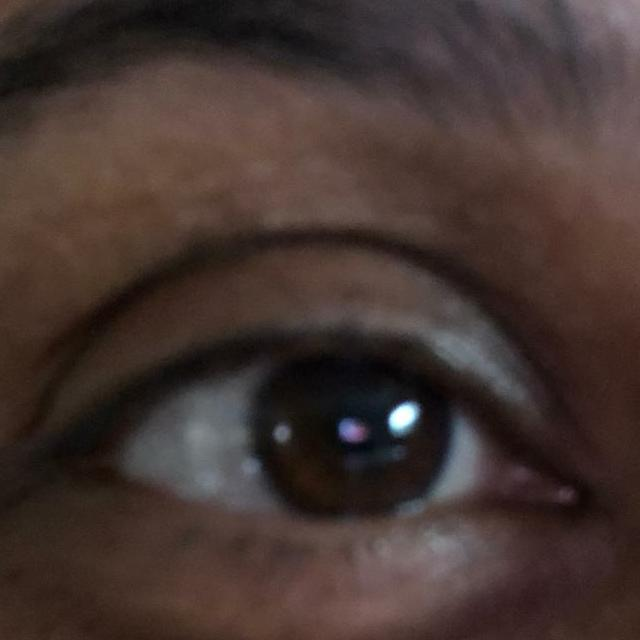eye: (96, 346, 502, 522)
iris: (247, 357, 459, 516)
